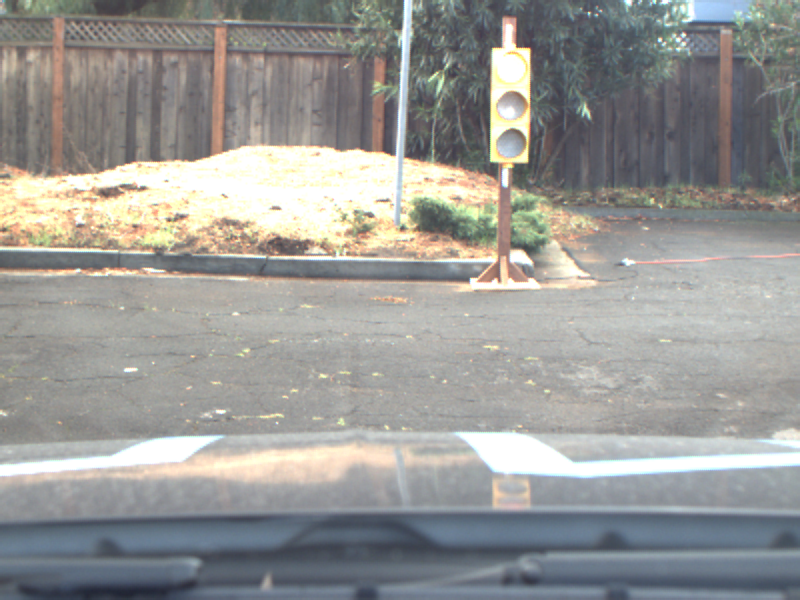Red: (490, 47, 530, 163)
